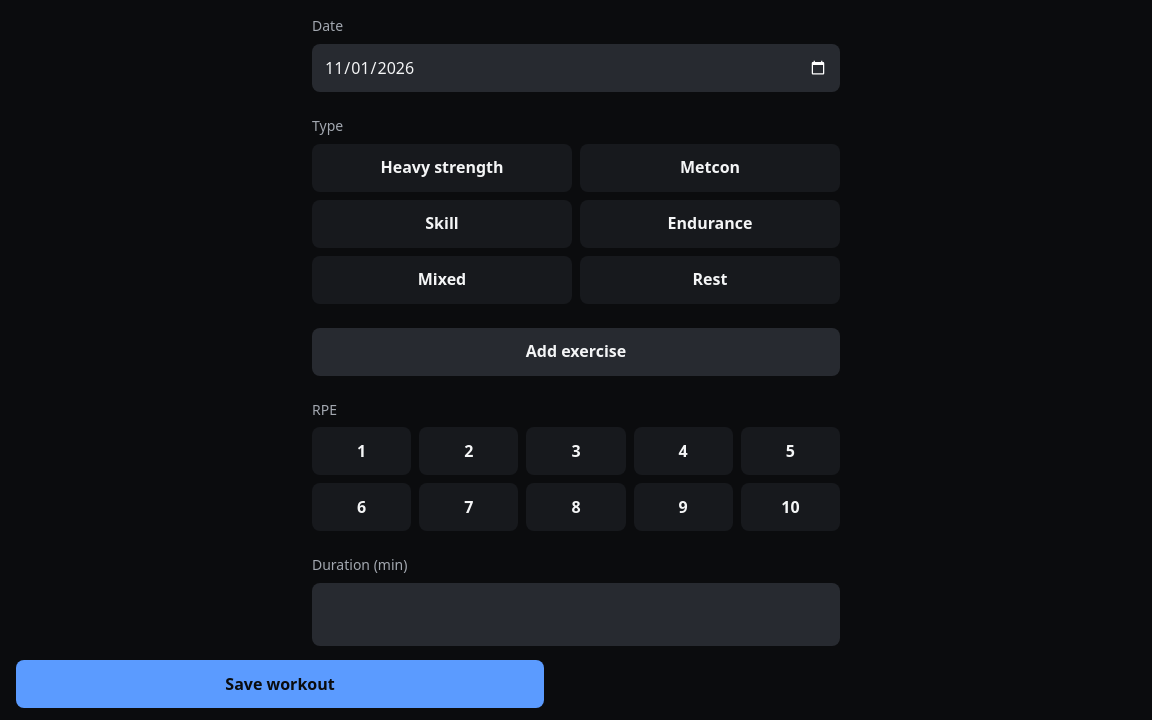
Test: when something is wrong › shows invalid input and does not call the API
Expected: the button "Add exercise" is shown, [312,328,840,376]
Click the button "Save workout". click: (280, 684)
box: [16,660,544,708]
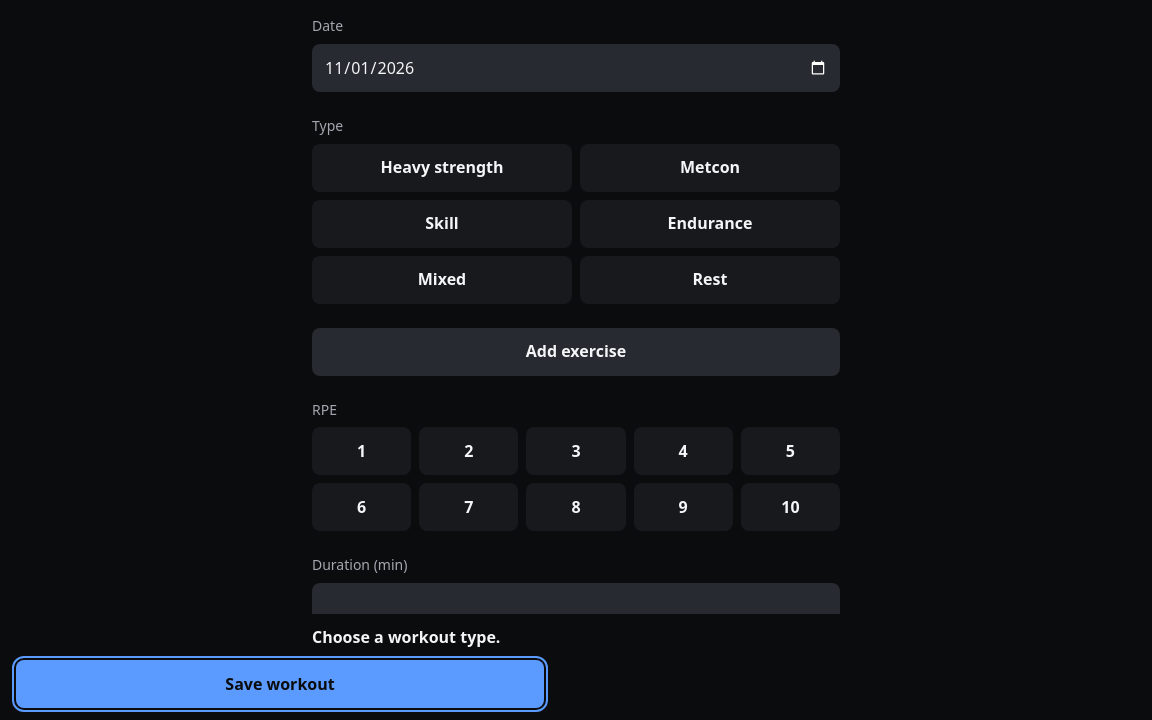
Now the message reads "Choose a workout type.", box [312,626,500,648]
